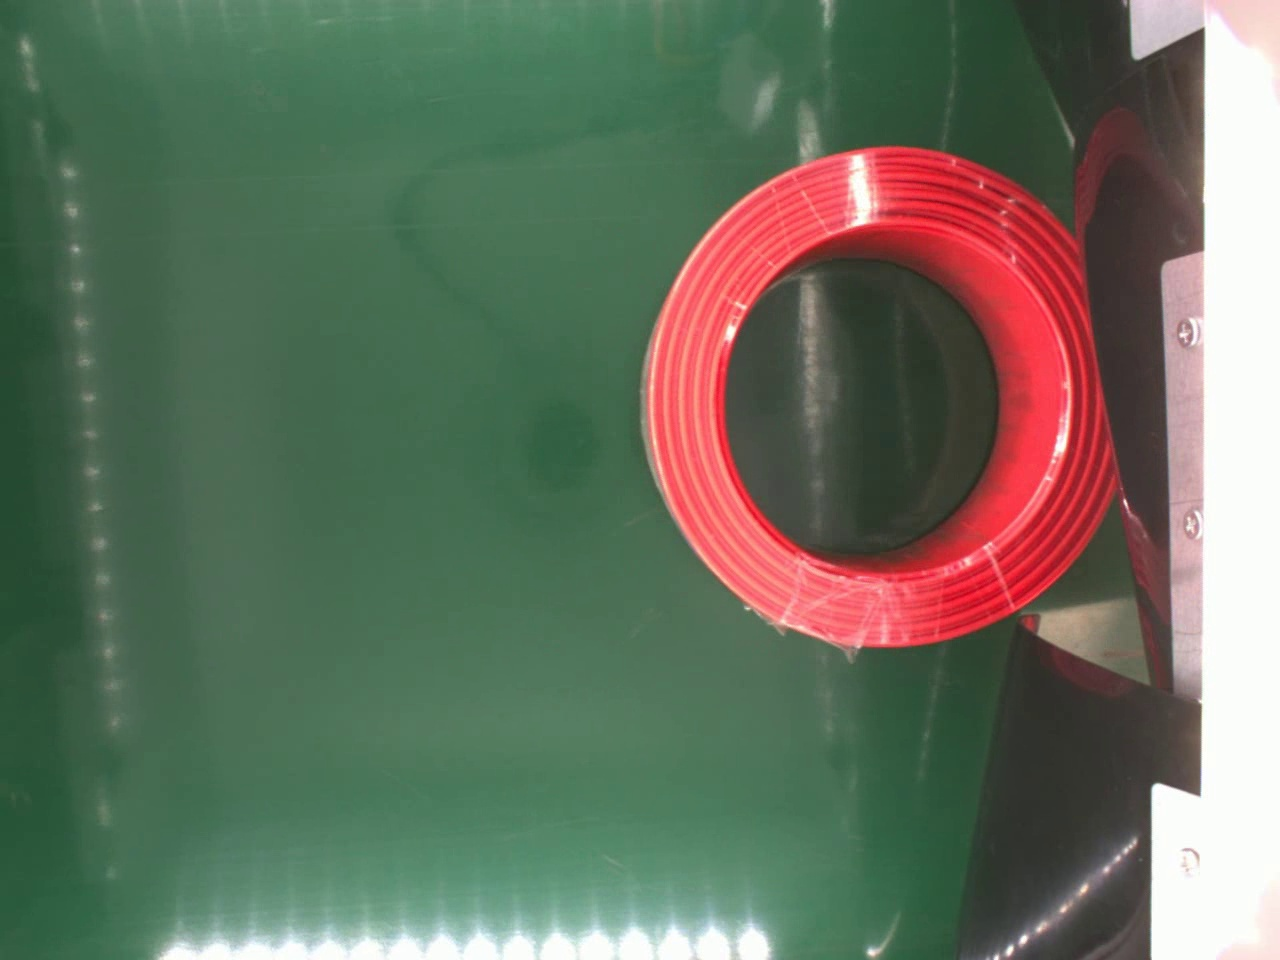red: (637, 144, 1121, 650)
